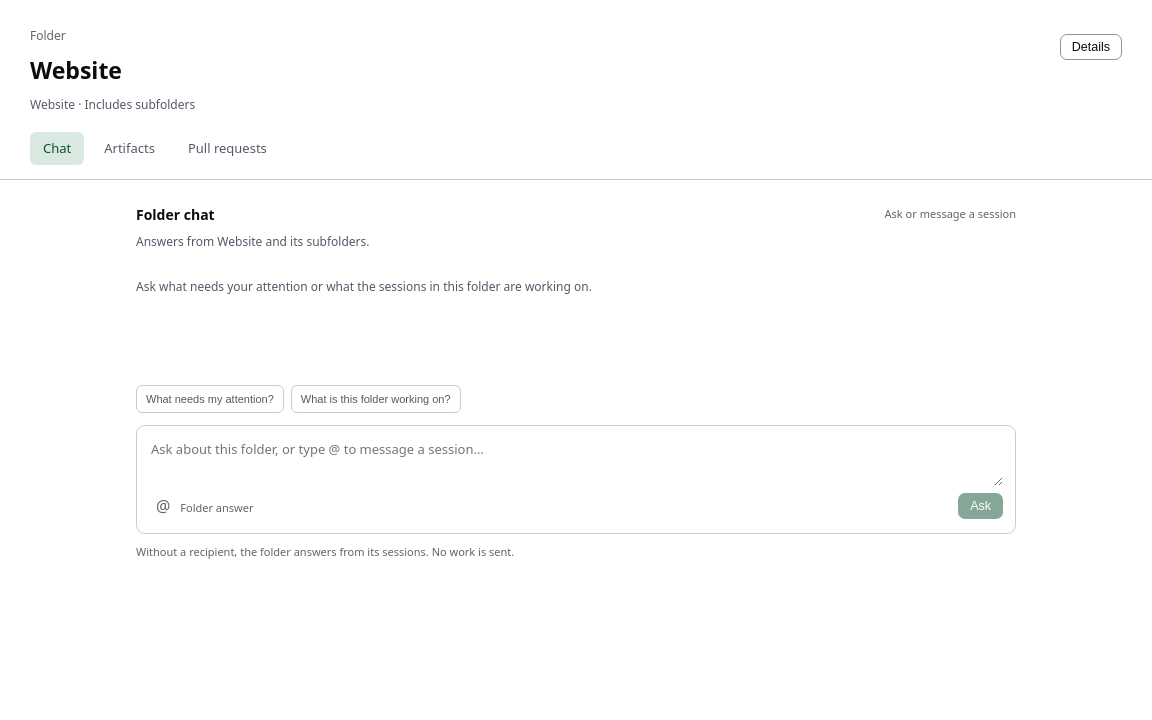
selects a scoped recipient with the keyboard and sends an owner request
This screenshot has width=1152, height=720.
In the text box: point(576, 462) 149,438 -> 1003,486, type "@"
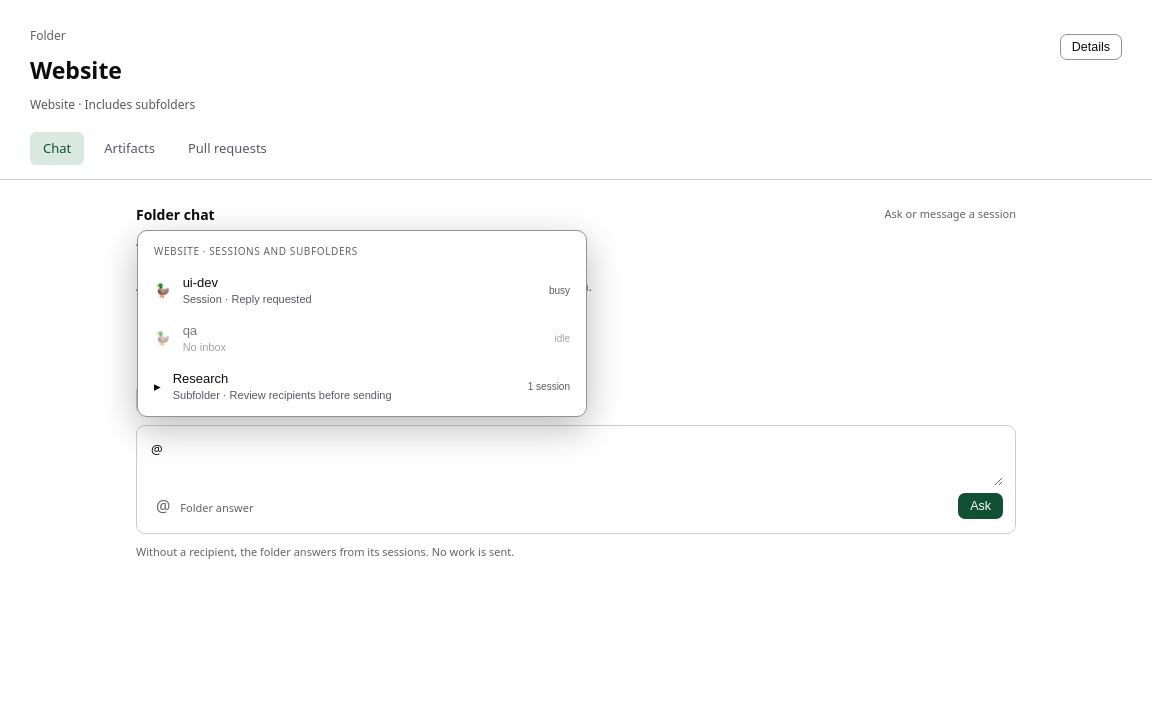
Now the option "🦆 ui-dev Session · Reply requested busy" is shown, box 144,266 -> 580,314
Now the option "🦆 qa No inbox idle" is disabled, box 144,314 -> 580,362
Press ArrowDown in the text box, box 149,438 -> 1003,486
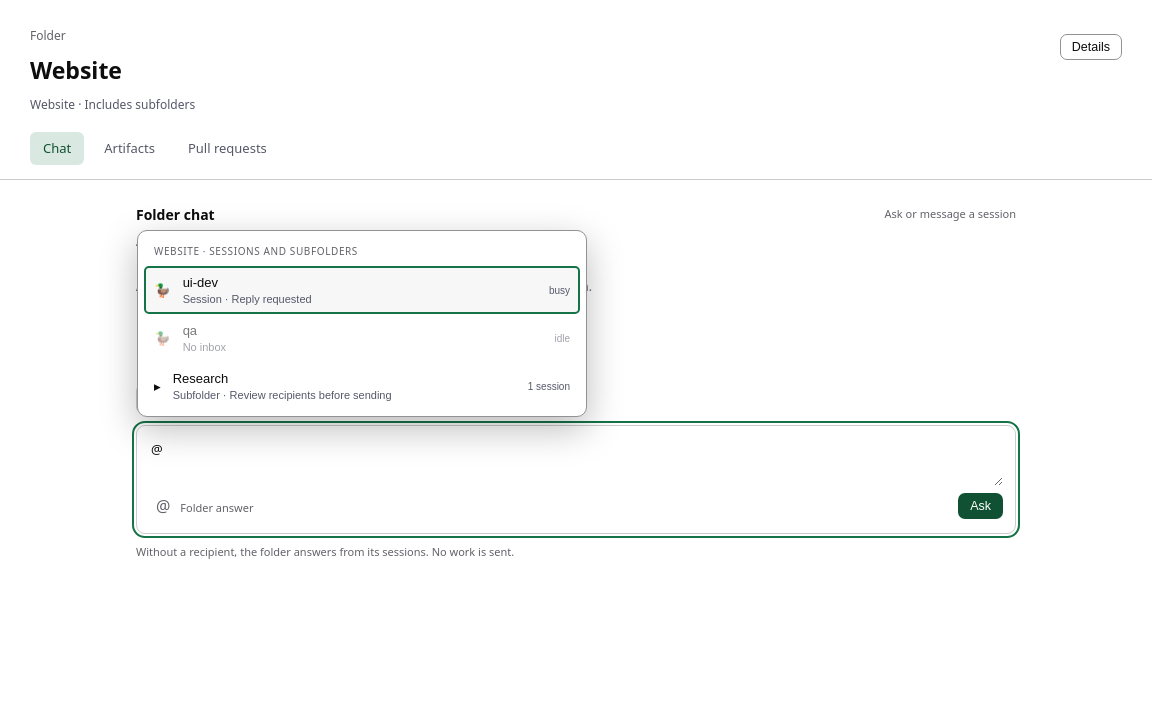
Click the option "🦆 ui-dev Session · Reply requested busy": point(200, 282) 144,266 -> 580,314
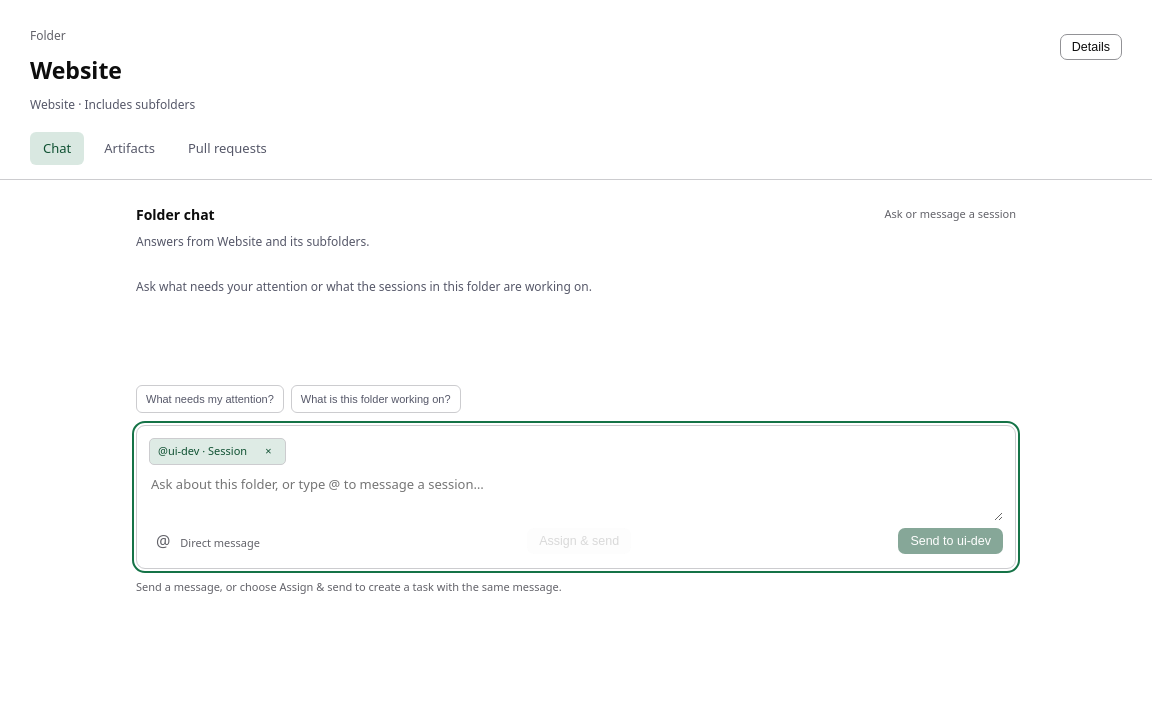
Now the text "@ui-dev · Session" is shown, box 158,443 -> 247,460
In the text box: point(576, 496) 149,472 -> 1003,520, type "Review this"
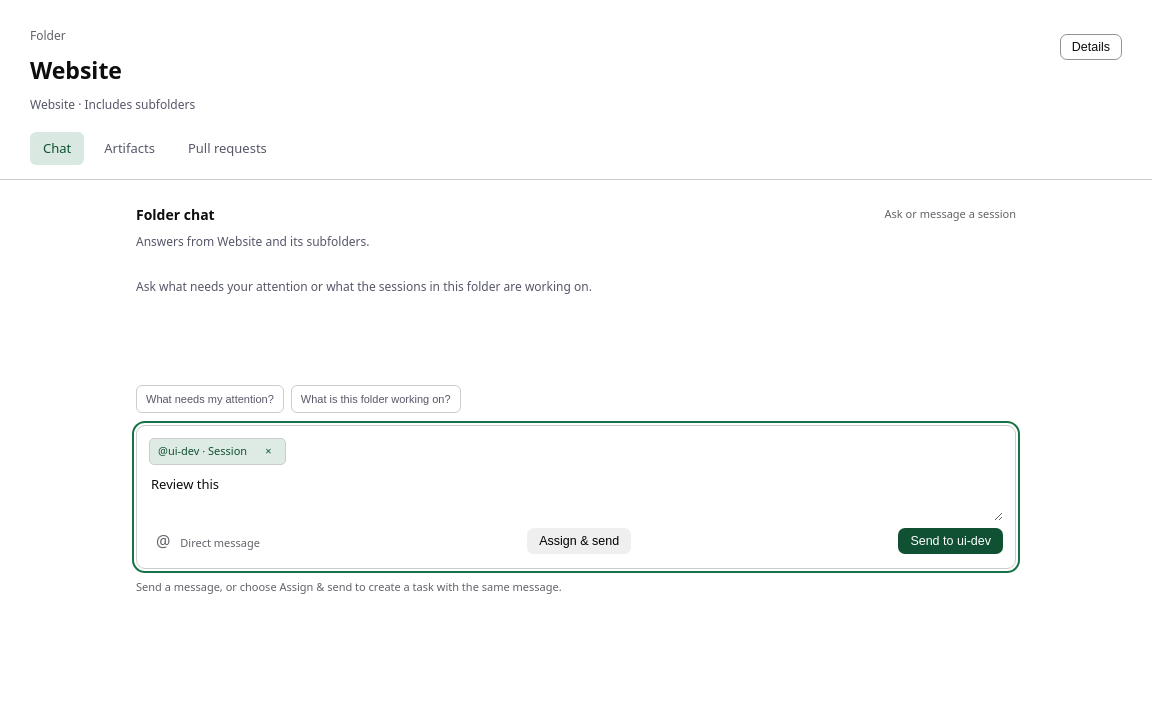
Click the button "Send to ui-dev": point(951, 540) 898,528 -> 1003,554
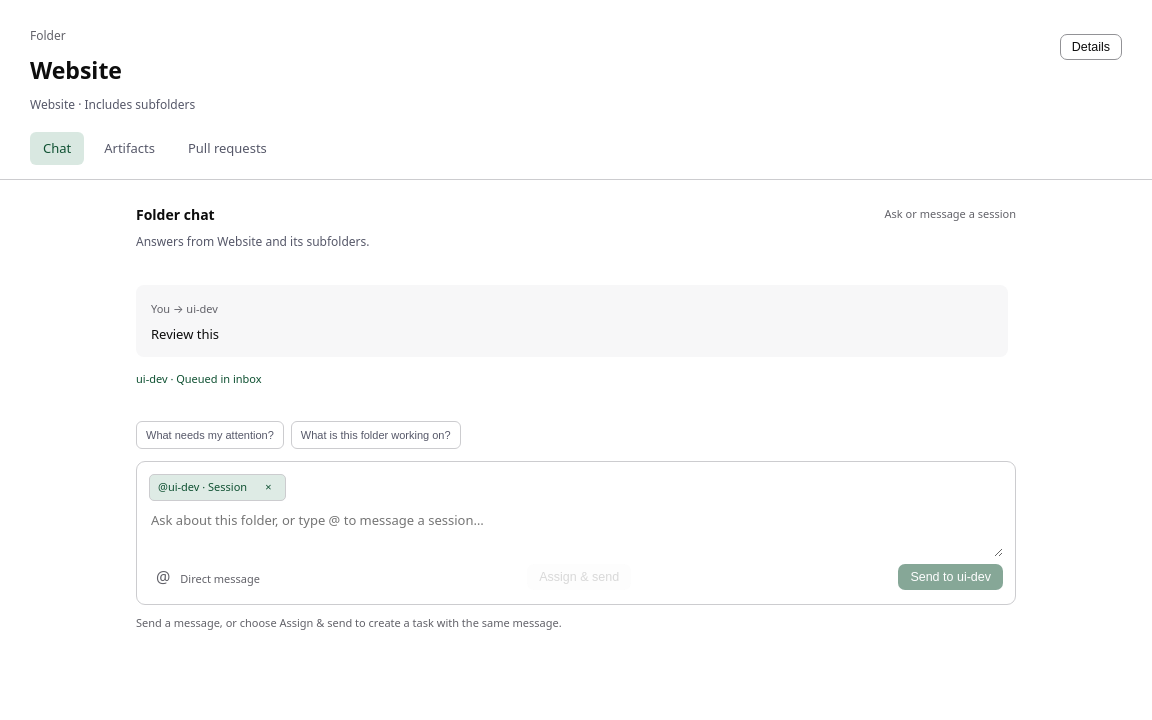
Now the text "ui-dev · Queued in inbox" is shown, box 136,371 -> 262,386
